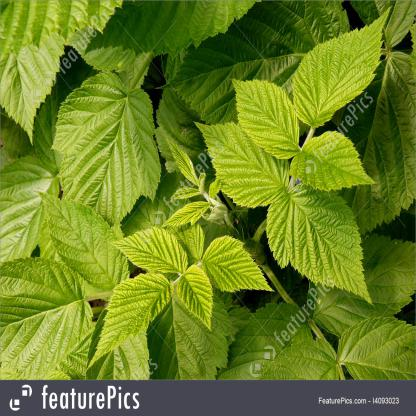raspberry leaf: (267, 185, 376, 307), (291, 4, 394, 129), (193, 118, 291, 210), (86, 270, 175, 369), (231, 76, 306, 162), (291, 132, 378, 190), (198, 230, 273, 292), (111, 229, 191, 273), (177, 264, 215, 331)
